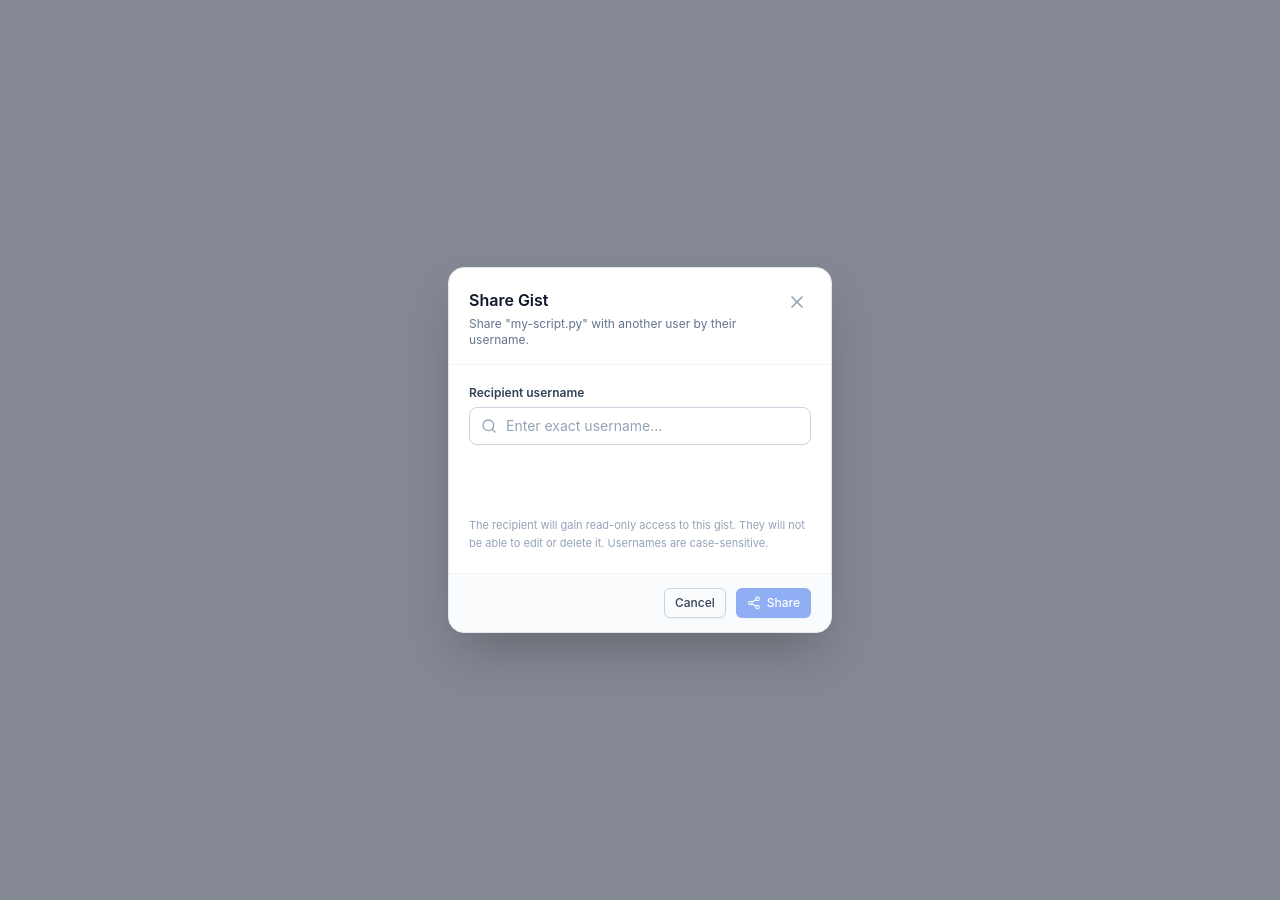
Test case: ShareGistModal — sharing submission › shows self-share error from the backend
The width and height of the screenshot is (1280, 900).
Type "alice" into the field labelled "Recipient username". click: (640, 426)
box: [469,407,811,445]
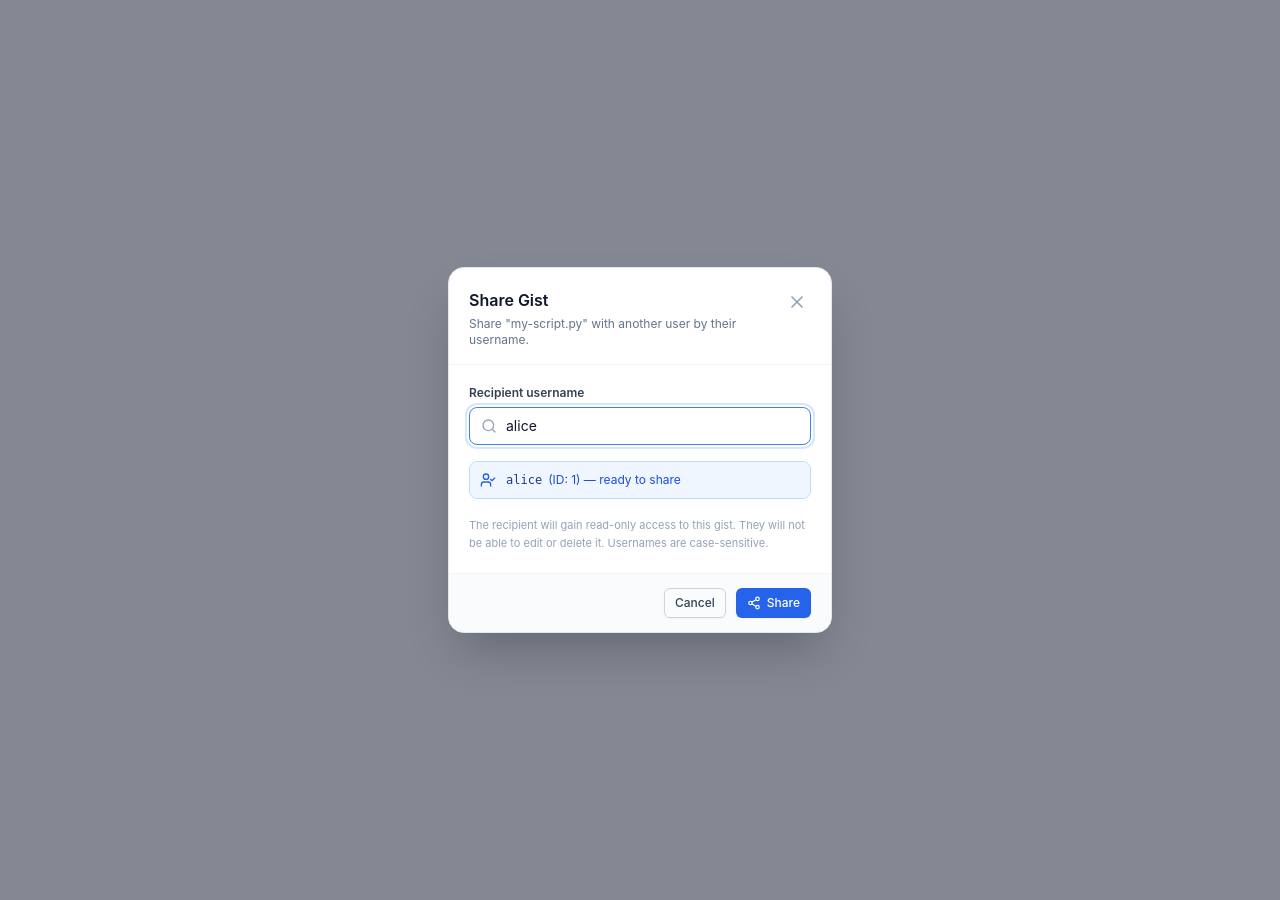
Expected: the text "(ID: 1) — ready to share" is shown, [548,472,681,487]
Click the button "Share". click: (773, 603)
box: [736,588,811,618]
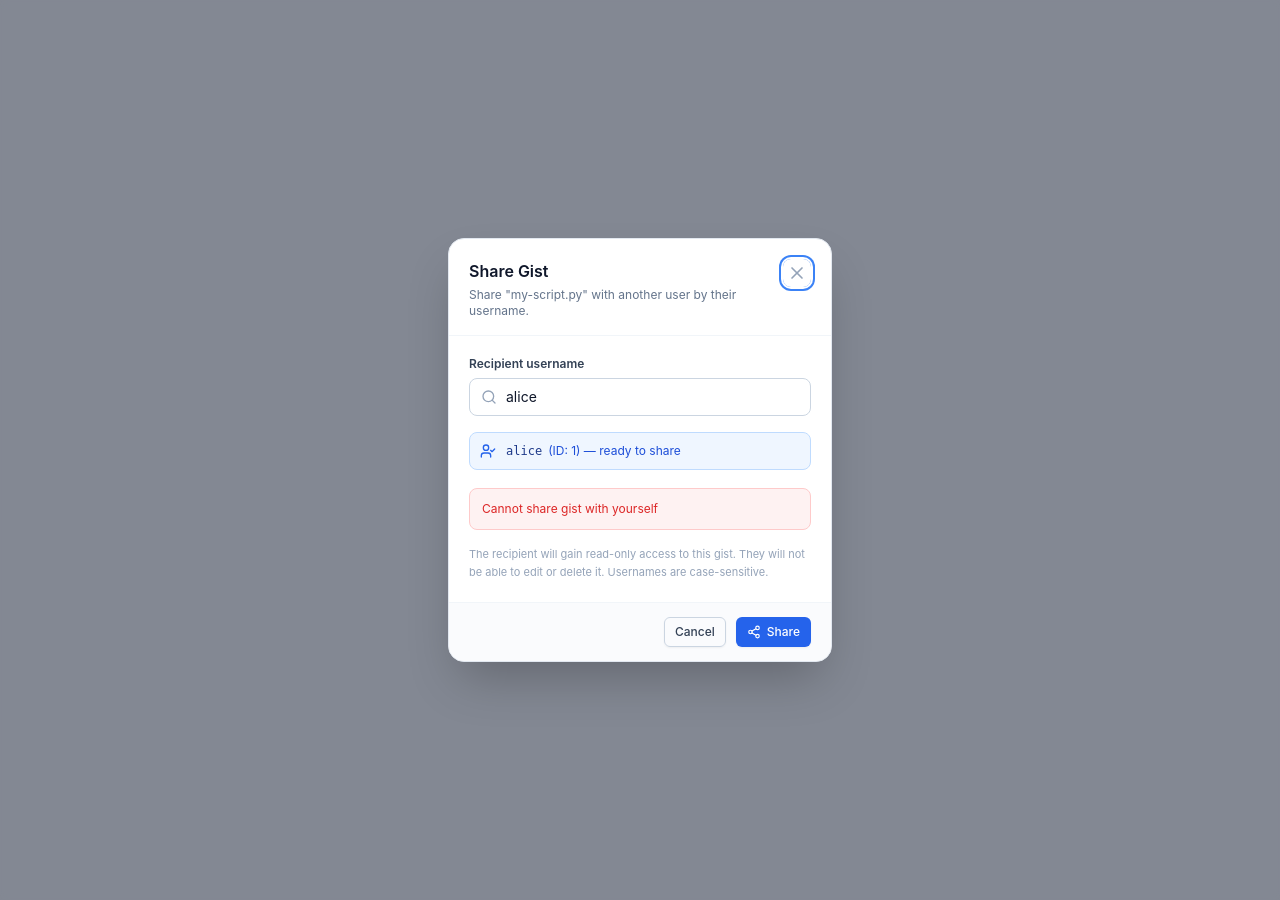
Expected: the text "Cannot share gist with yourself" is shown, [469,488,811,530]
